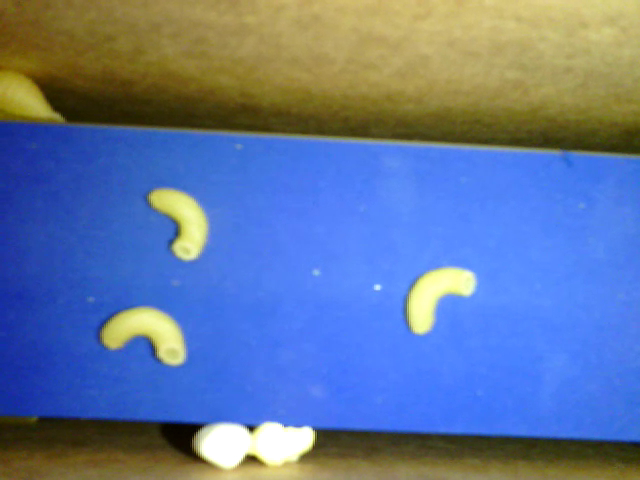elbow: (98, 304, 188, 371), (403, 267, 477, 340), (148, 189, 210, 263)
shell: (1, 69, 66, 125)
